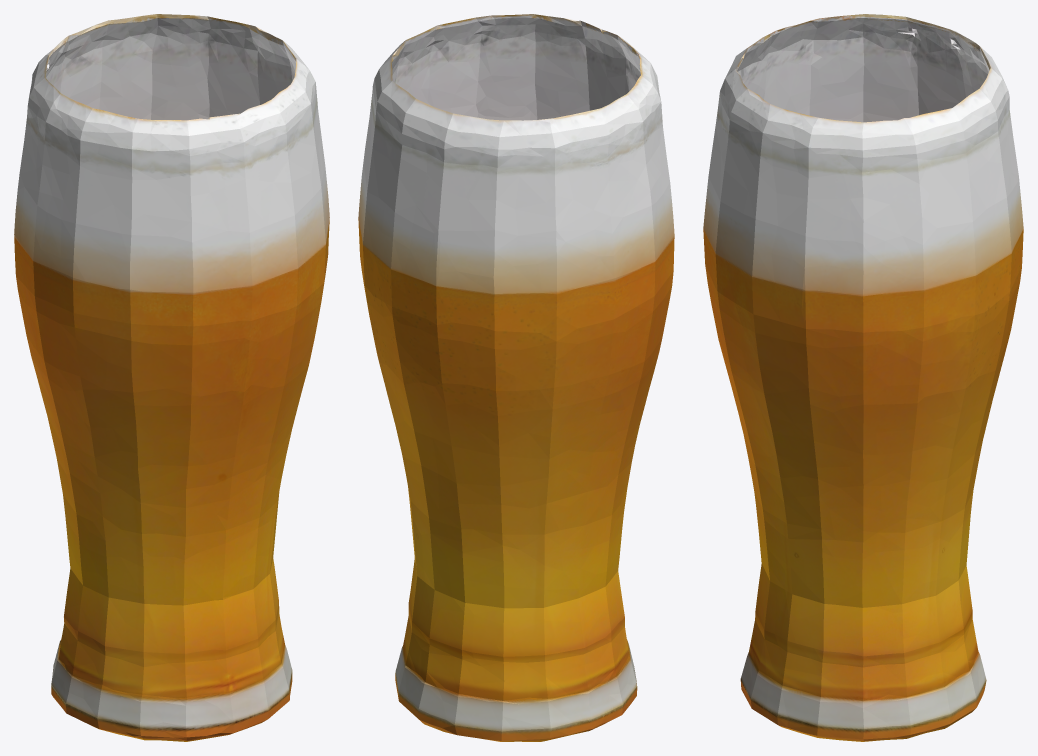
3 views of the same model, side by side, from view 1: azimuth 30°, elevation 25°; view 2: azimuth 150°, elevation 25°; view 3: azimuth 270°, elevation 25° (orthographic).
Parts seen in each view (by area): view 1: temp; view 2: temp; view 3: temp.
Boxes of the visible parts, x1,y1,x2,y2 form: temp: (14, 14, 329, 741); temp: (358, 14, 674, 741); temp: (703, 14, 1023, 741).
Bounding box in the file's own units: 92.39 × 200 × 92.58.
1 material, 1 textured.
